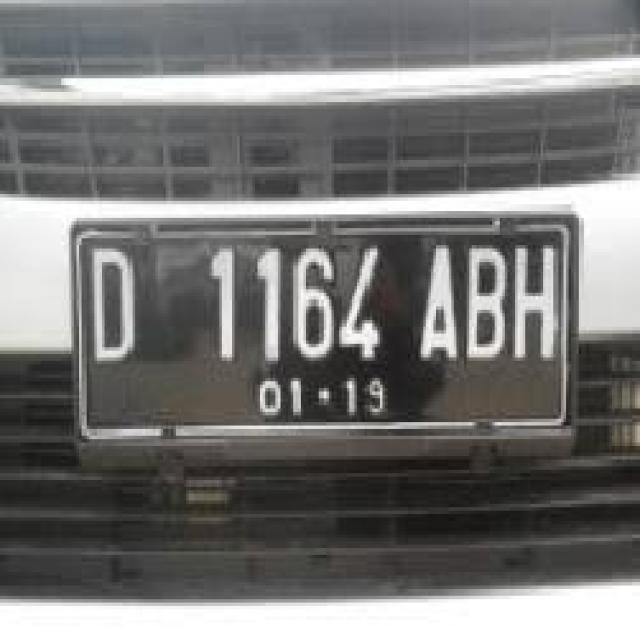license-plat: (72, 223, 571, 443)
